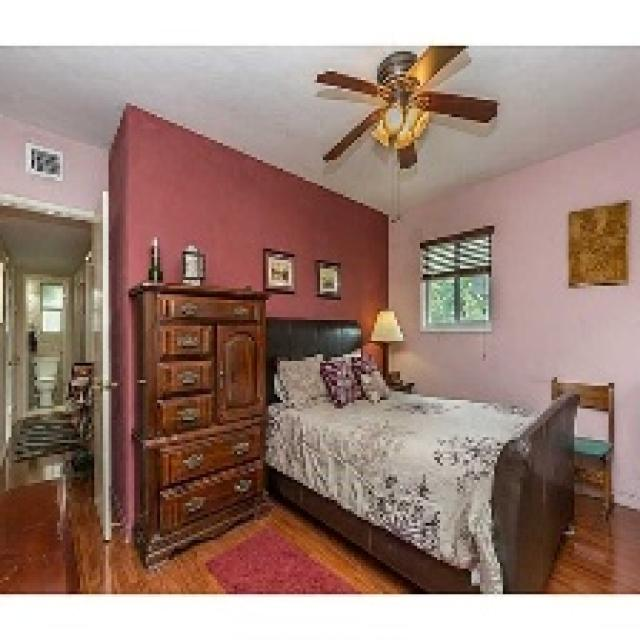Bed: (263, 314, 577, 592)
